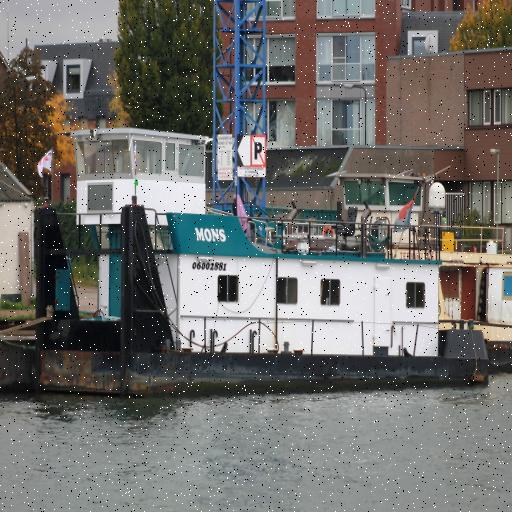tugboat: (31, 127, 493, 397)
